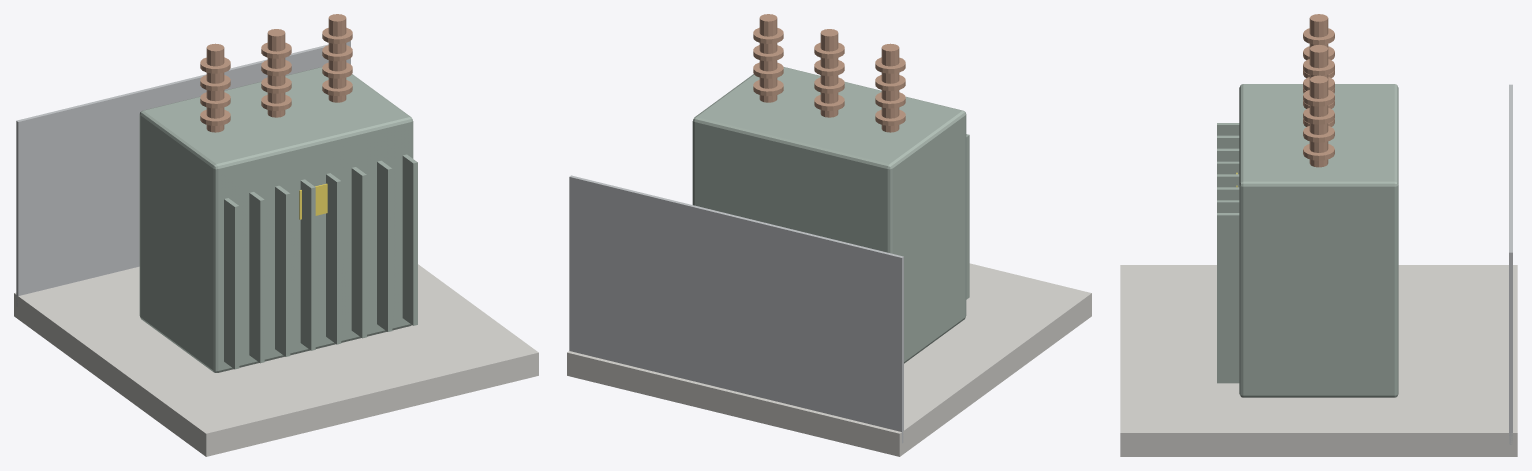
The model's file is transformer.glb.
3 renders of one model, left to right at view 1: azimuth 30°, elevation 25°; view 2: azimuth 150°, elevation 25°; view 3: azimuth 270°, elevation 25°, orthographic. The views are drawn at different scales.
Visible parts, largest first — view 1: tank, pad, fence, fin7, fin0, fin2, fin1, fin5, fin6, fin4, fin3, bush2 (+2 smaller); view 2: fence, tank, pad, bush2, bush1, bush0, fin0; view 3: pad, tank, fin7, fence, bush2, bush0, bush1.
Part boxes in pixels (x1,y1,x2,y2): tank: (139, 67, 413, 372); pad: (14, 264, 538, 456); fence: (16, 40, 350, 306); fin7: (402, 154, 417, 325); fin0: (224, 198, 239, 369); fin2: (275, 185, 290, 356); fin1: (249, 192, 264, 363); fin5: (351, 167, 366, 338); fin6: (377, 160, 392, 331); fin4: (326, 173, 341, 344); fin3: (300, 179, 315, 350); bush2: (328, 14, 346, 102); fence: (569, 175, 903, 443); tank: (692, 67, 966, 363); pad: (567, 263, 1091, 456); bush2: (759, 14, 777, 102); bush1: (820, 29, 838, 117); bush0: (881, 43, 899, 132); fin0: (966, 134, 969, 299); pad: (1120, 265, 1517, 456); tank: (1239, 84, 1398, 397); fin7: (1217, 213, 1239, 383); fence: (1509, 84, 1512, 444); bush2: (1309, 75, 1328, 167); bush0: (1309, 14, 1328, 48); bush1: (1309, 45, 1328, 78).
Size of the model in its own units: 3 by 2.7 by 3.
